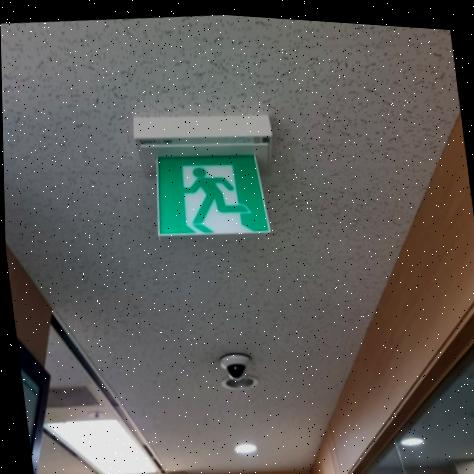emergency_exit: (155, 151, 271, 237)
